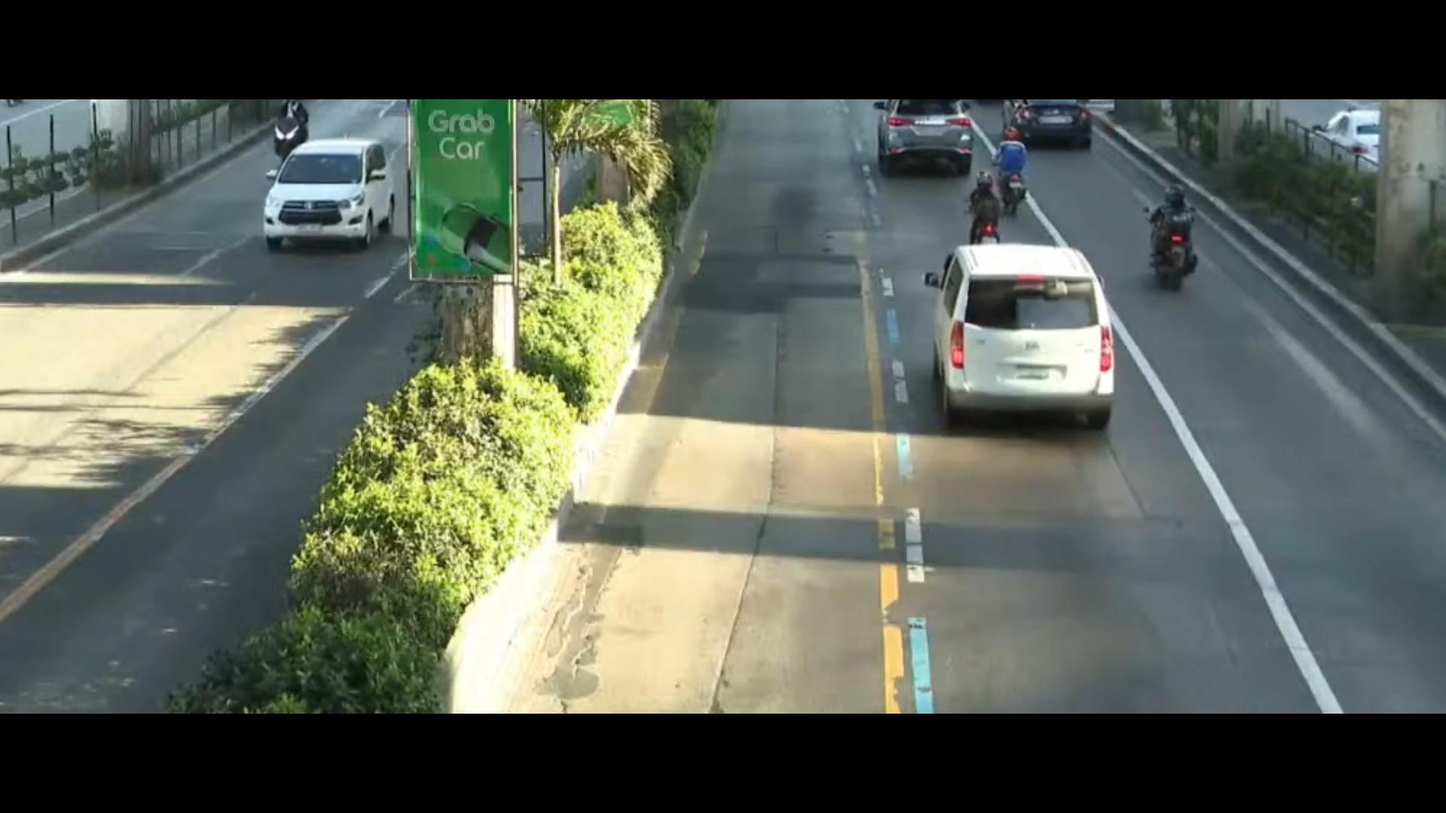Motorcycle: (1140, 179, 1206, 296), (987, 126, 1045, 220), (260, 98, 319, 171), (962, 171, 1003, 248)
SUV: (244, 126, 397, 266), (879, 99, 969, 171)
Van: (917, 219, 1134, 450)
